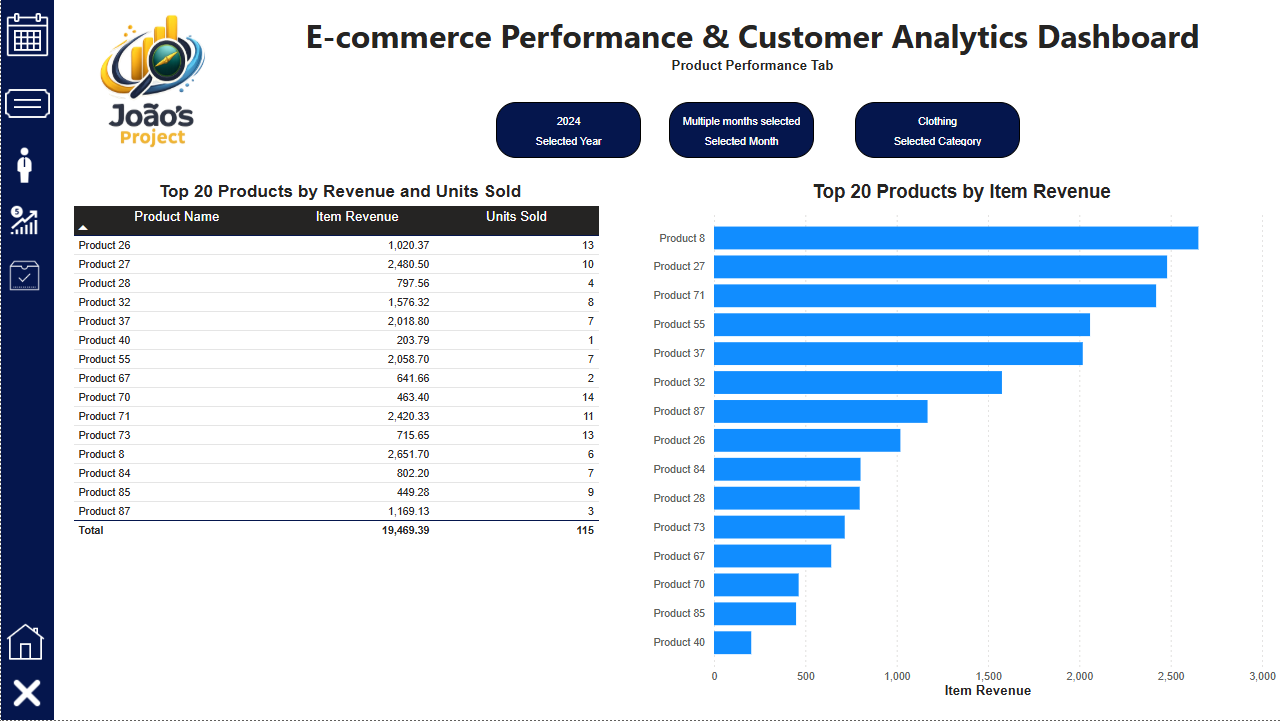

What the dashboard file says about the page in this screenshot:
{"tool":"powerbi","page":{"name":"Product Performance","canvas":[1280,720],"ordinal":3},"visuals":[{"type":"tableEx","title":"Top 20 Products by Revenue and Units Sold","fields":{"Values":["dim_product.product_name","Measure.Item Revenue","Measure.Units Sold"]},"box":[67,181,545,539],"z":0},{"type":"image","title":"Logo","box":[45.3,0,211.3,165.9],"z":1000},{"type":"shape","title":"Side Bar","box":[0,0,53.1,720.2],"z":2000},{"type":"actionButton","title":"Date Filter Button","box":[0,7.9,53.1,54.2],"z":3000},{"type":"actionButton","title":"Country Filter Button","box":[0,76.7,53.3,53.3],"z":4000},{"type":"actionButton","title":"Home Page Tab Button","box":[1.1,618.9,52.2,46.7],"z":5000},{"type":"actionButton","title":"Data Quality & Notes Tab Button","box":[0,252.4,52.3,46.7],"z":6000},{"type":"actionButton","title":"Executive Overview Tab Button","box":[0,142.2,52.2,46.7],"z":8000},{"type":"actionButton","title":"Sales Trends Tab Button","box":[0,196.7,52.2,46.7],"z":9000},{"type":"actionButton","title":"Close Button","box":[0,665.8,51.5,54.2],"z":12000},{"type":"textbox","title":"Report Name Text Box","box":[266,8,972,75],"z":13000},{"type":"barChart","title":"Top 20 Products by Item Revenue","fields":{"Category":["dim_product.product_name"],"Y":["Measure.Item Revenue"]},"box":[642,181,638,522],"z":14000},{"type":"card","title":"Selected Month Card","fields":{"Values":["Measure.Selected Month"]},"box":[668,102,145,56],"z":15000},{"type":"card","title":"Selected Year Card","fields":{"Values":["Measure.Selected Year"]},"box":[495,102,145,56],"z":16000},{"type":"card","title":"Selected Status Card","fields":{"Values":["Measure.Selected Category"]},"box":[854,102,165,56],"z":17000}]}

Visuals, with their boxes in screenshot pixels (x1, y1, x2, y2), scaled from the page's 1280x720 canvas onto the 1280x721 screenshot:
"Top 20 Products by Revenue and Units Sold" tableEx: (67, 181, 612, 720)
"Logo" image: (45, 0, 257, 166)
"Side Bar" shape: (0, 0, 53, 720)
"Date Filter Button" actionButton: (0, 8, 53, 62)
"Country Filter Button" actionButton: (0, 77, 53, 130)
"Home Page Tab Button" actionButton: (1, 620, 53, 667)
"Data Quality & Notes Tab Button" actionButton: (0, 253, 52, 300)
"Executive Overview Tab Button" actionButton: (0, 142, 52, 189)
"Sales Trends Tab Button" actionButton: (0, 197, 52, 244)
"Close Button" actionButton: (0, 667, 52, 720)
"Report Name Text Box" textbox: (266, 8, 1238, 83)
"Top 20 Products by Item Revenue" barChart: (642, 181, 1279, 704)
"Selected Month Card" card: (668, 102, 813, 158)
"Selected Year Card" card: (495, 102, 640, 158)
"Selected Status Card" card: (854, 102, 1019, 158)
